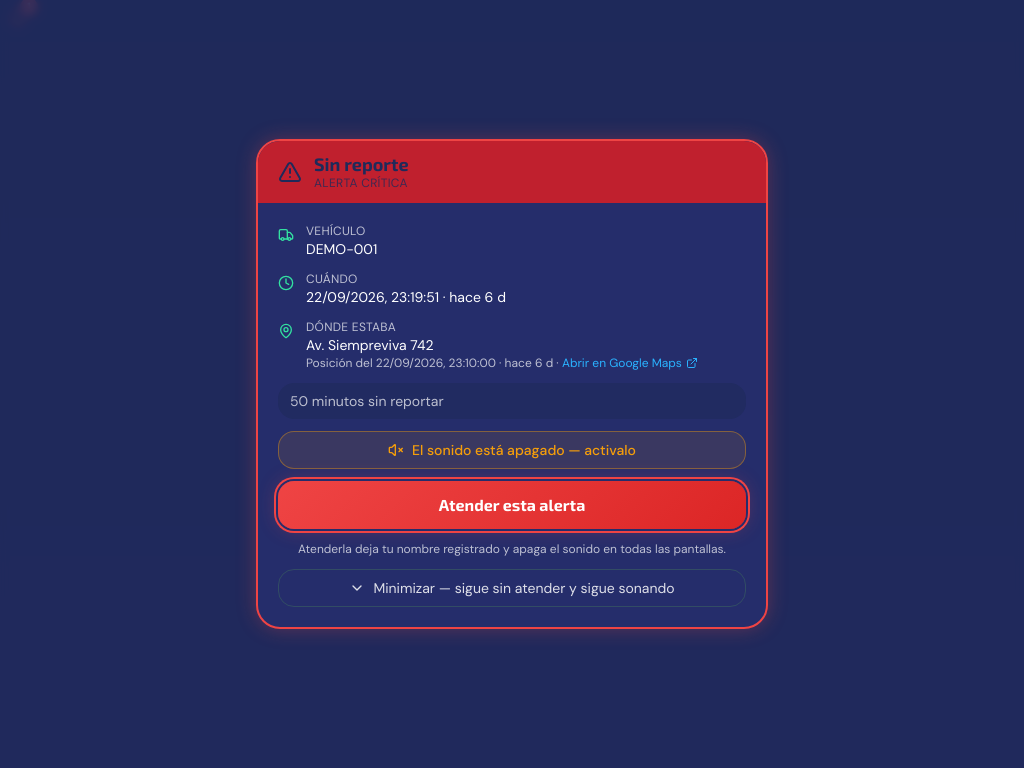
Test: Campana · el botón «Atender» está ENCHUFADO › 🔴 el formulario aparece en pantalla, no sólo la petición
The width and height of the screenshot is (1024, 768).
Click the button "Atender esta alerta" at (512, 505), box [278,481,746,529]
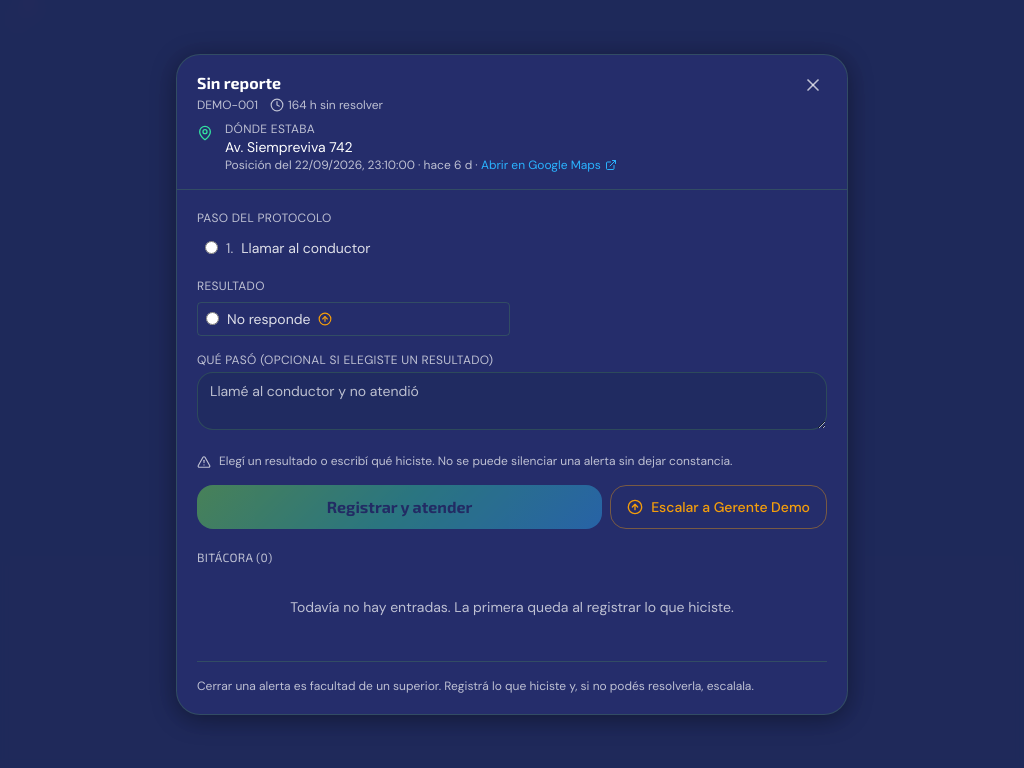
Check: the text "Llamar al conductor" is shown, box [241,238,370,258]
Check: the button "Registrar y atender" is shown, box [197,484,602,528]
